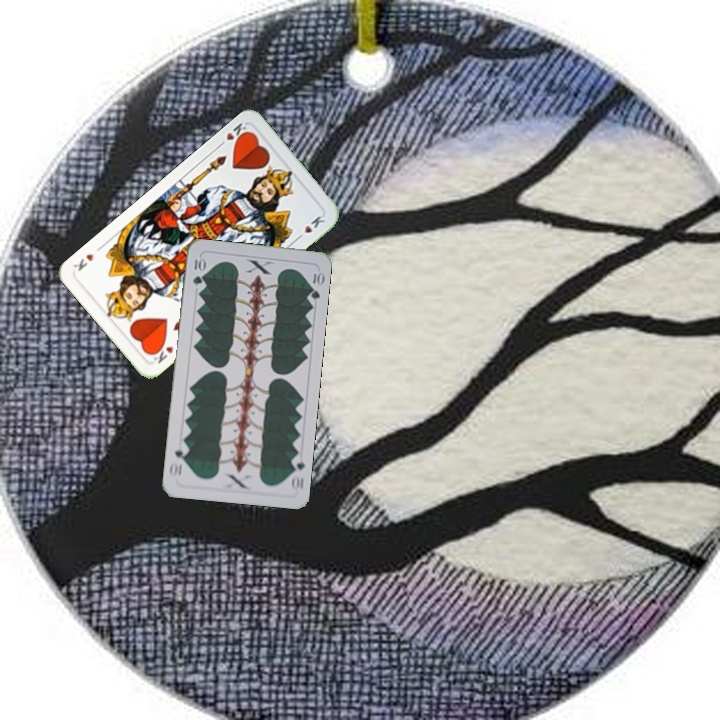G10: (287, 452, 307, 493), (189, 253, 206, 287)
HK: (214, 118, 252, 150), (147, 339, 176, 366)
